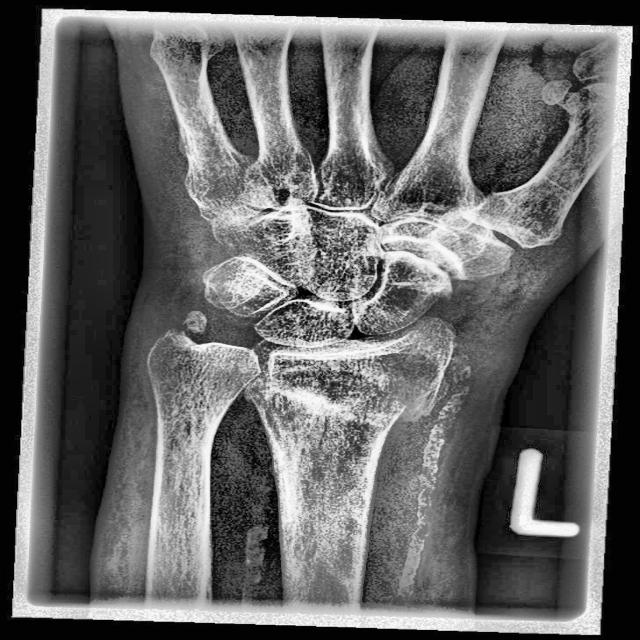line: (247, 381, 389, 428)
